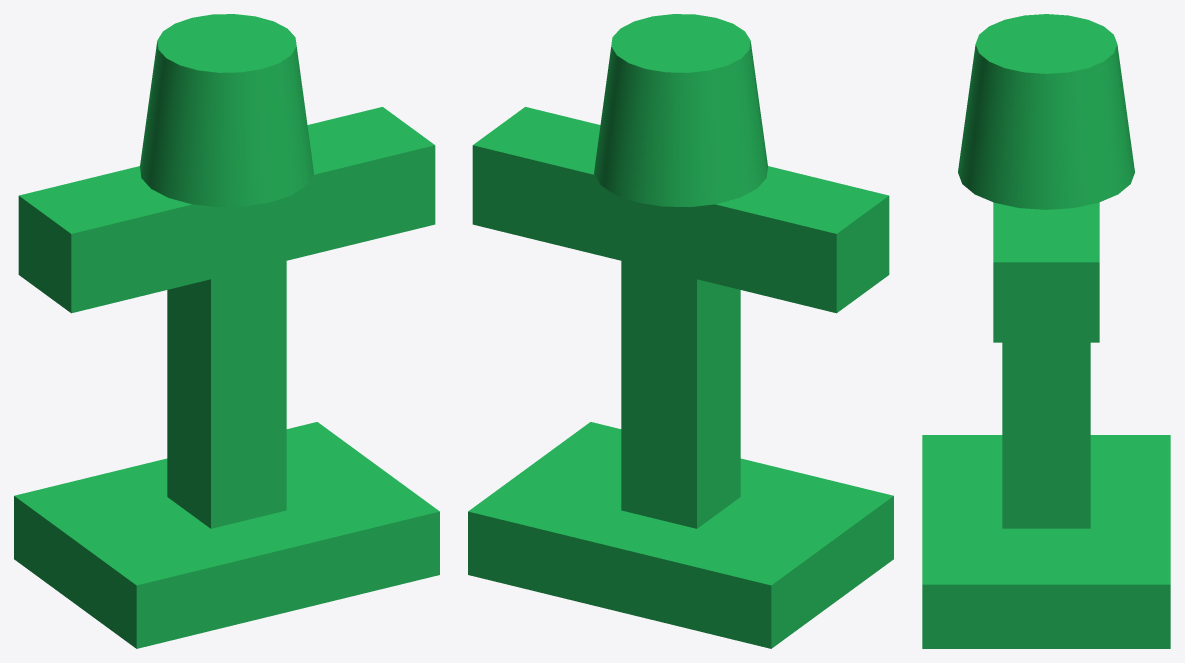
File: drill-press.glb
3 renders of one model, left to right at view 1: azimuth 30°, elevation 25°; view 2: azimuth 150°, elevation 25°; view 3: azimuth 270°, elevation 25°, orthographic.
Size of the model in its own units: 120 by 165 by 70.
